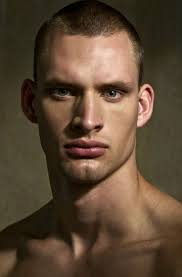s.white: (100, 106, 136, 141)
